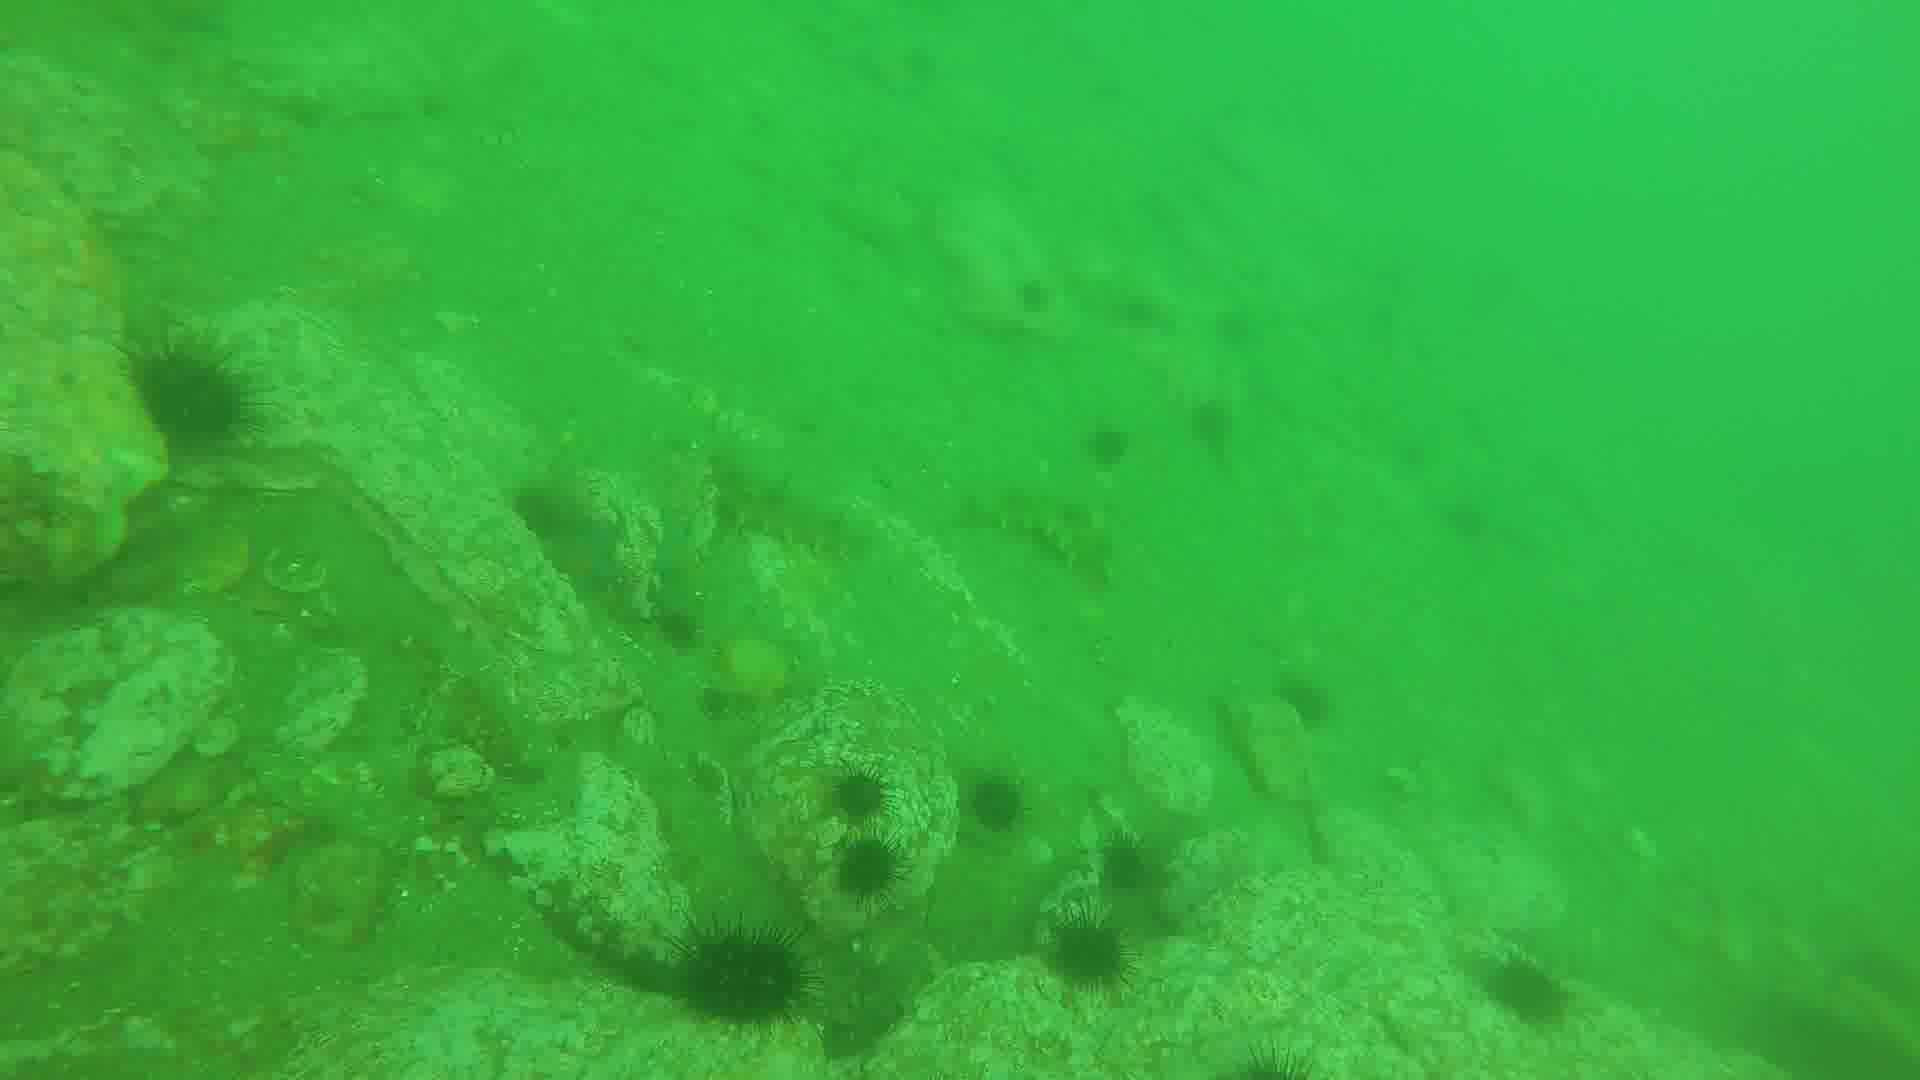echinus: (131, 336, 262, 455), (683, 932, 814, 1025), (1485, 951, 1571, 1029), (1048, 919, 1131, 997), (833, 837, 911, 909), (831, 762, 897, 829), (965, 774, 1030, 843), (1279, 669, 1342, 731), (1224, 1047, 1331, 1080), (510, 489, 571, 546), (1097, 837, 1150, 894), (1084, 423, 1129, 467)
holothurian: (698, 451, 873, 563), (961, 477, 1124, 582)
